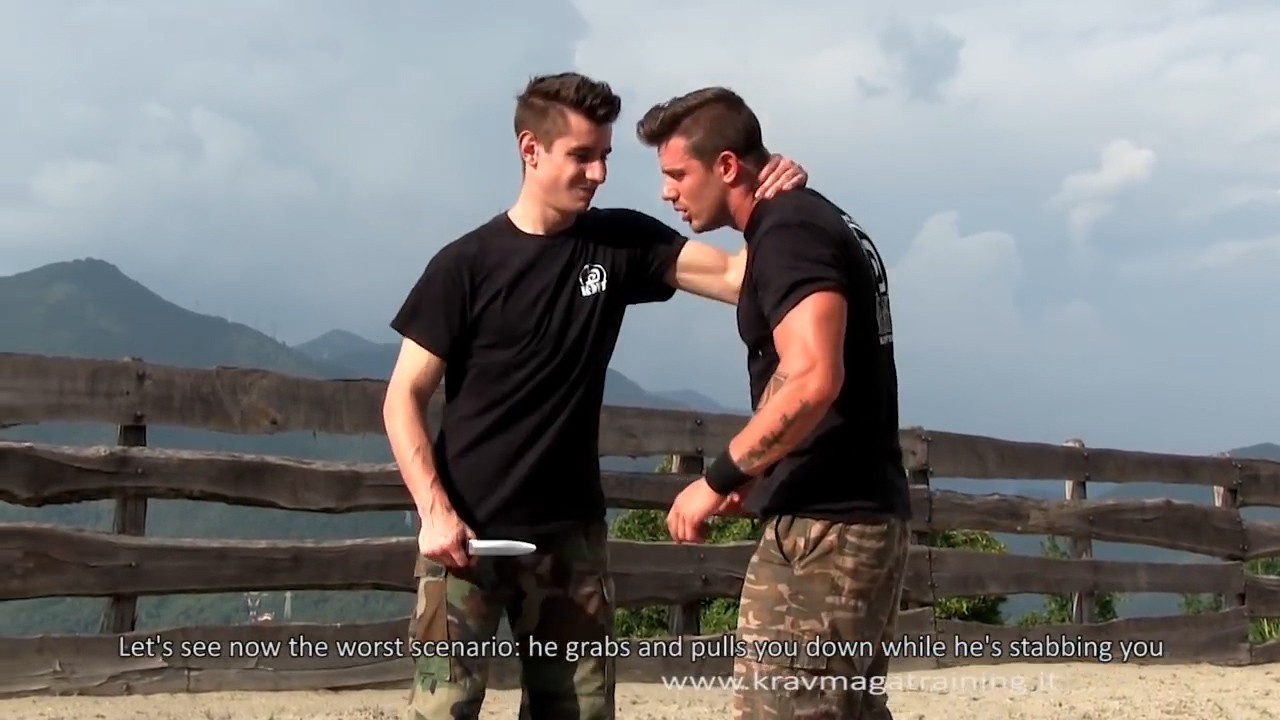knife: (412, 529, 539, 573)
